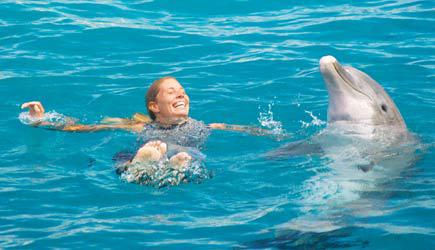swimmer: (19, 76, 216, 187)
